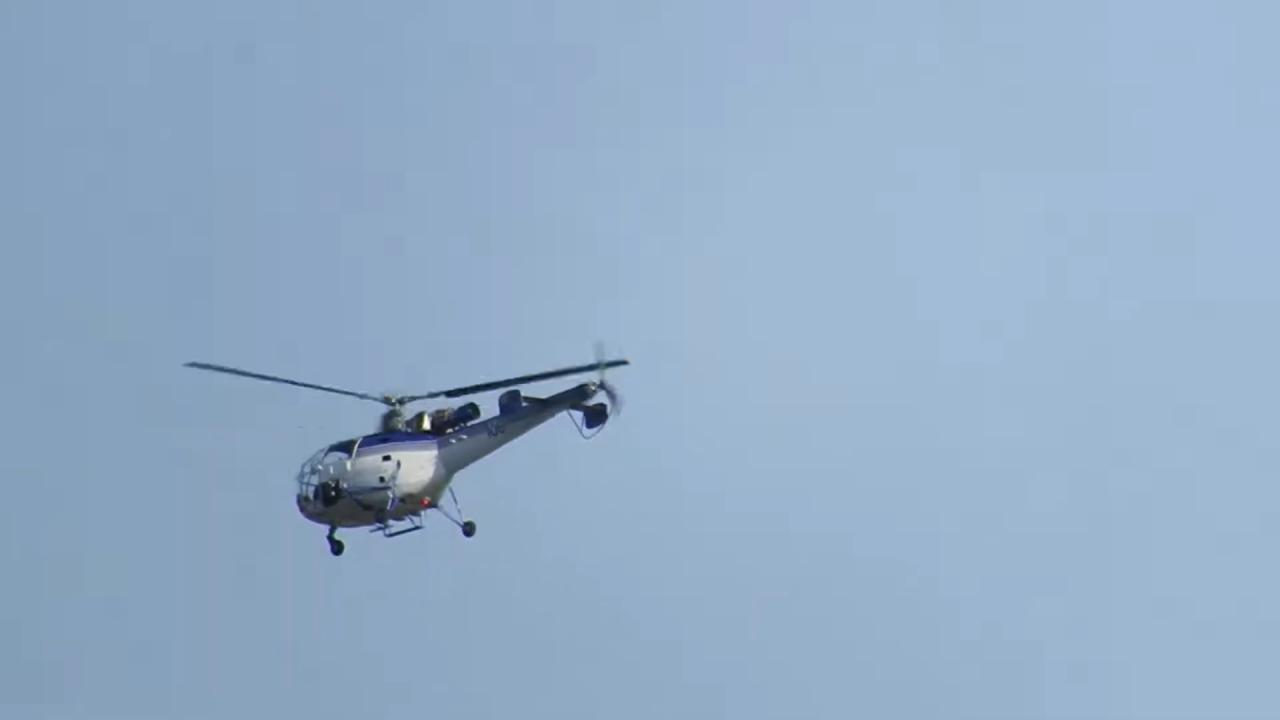Helicopter: (165, 297, 650, 584)
